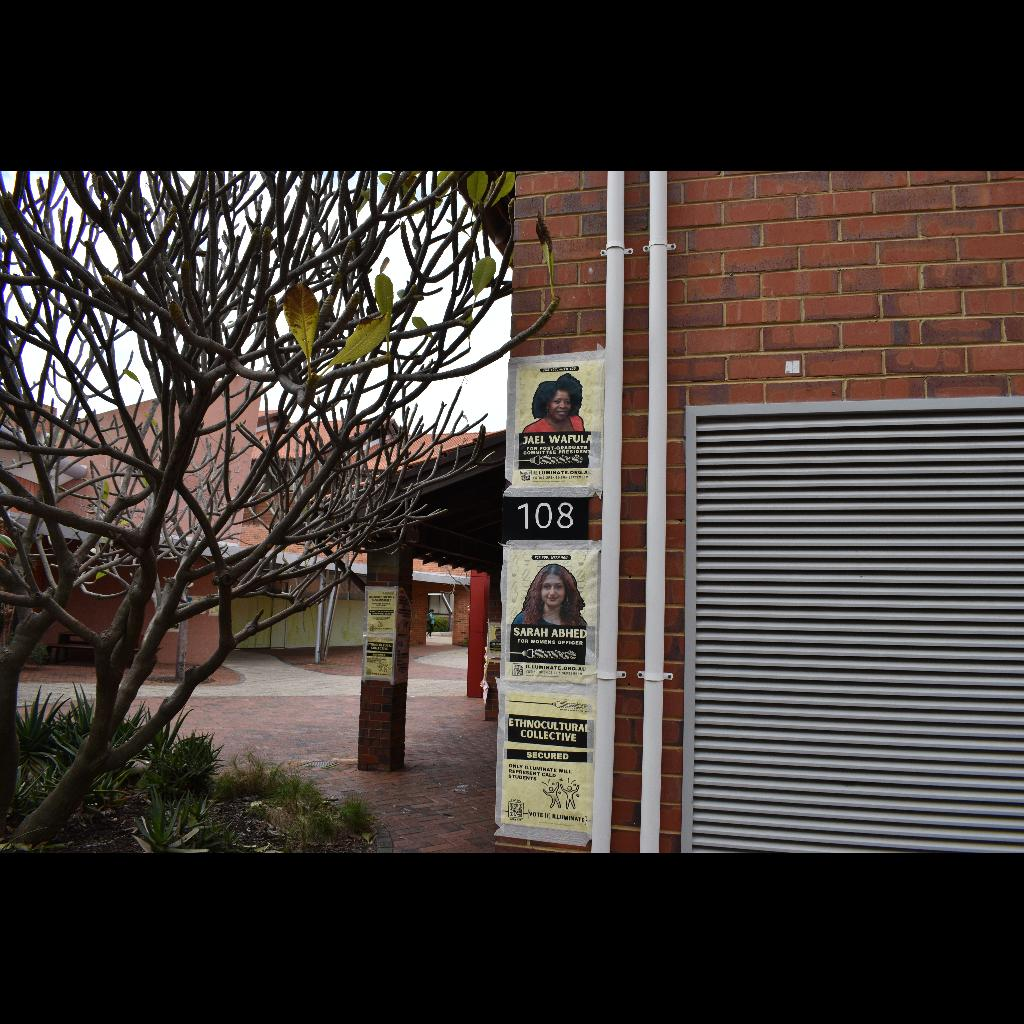BuildingCodes: (514, 499, 576, 533)
